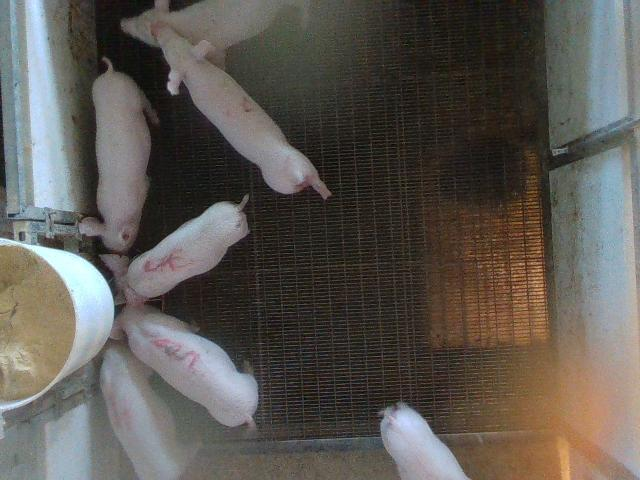pig-3: (111, 279, 259, 426)
pig-4: (100, 340, 199, 479)
pig-5: (100, 196, 248, 298)
